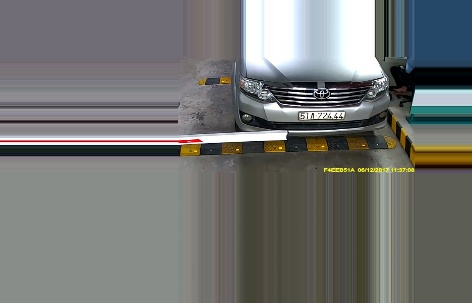plate: (299, 109, 346, 121)
